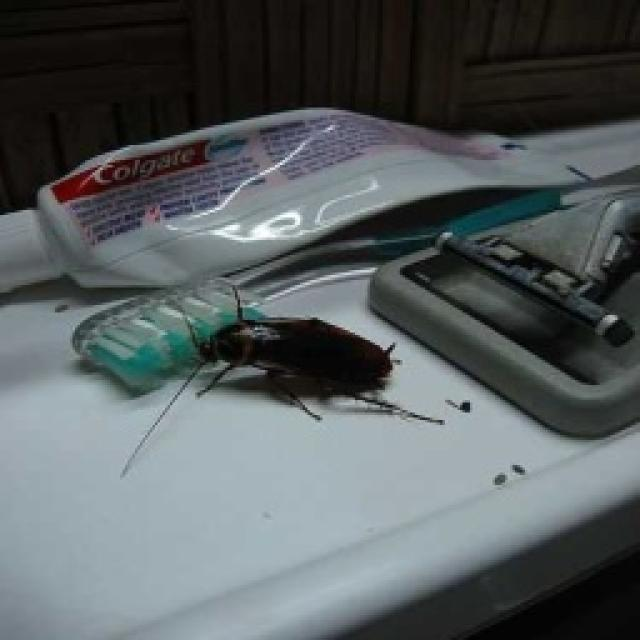cockroach: (115, 279, 447, 480)
